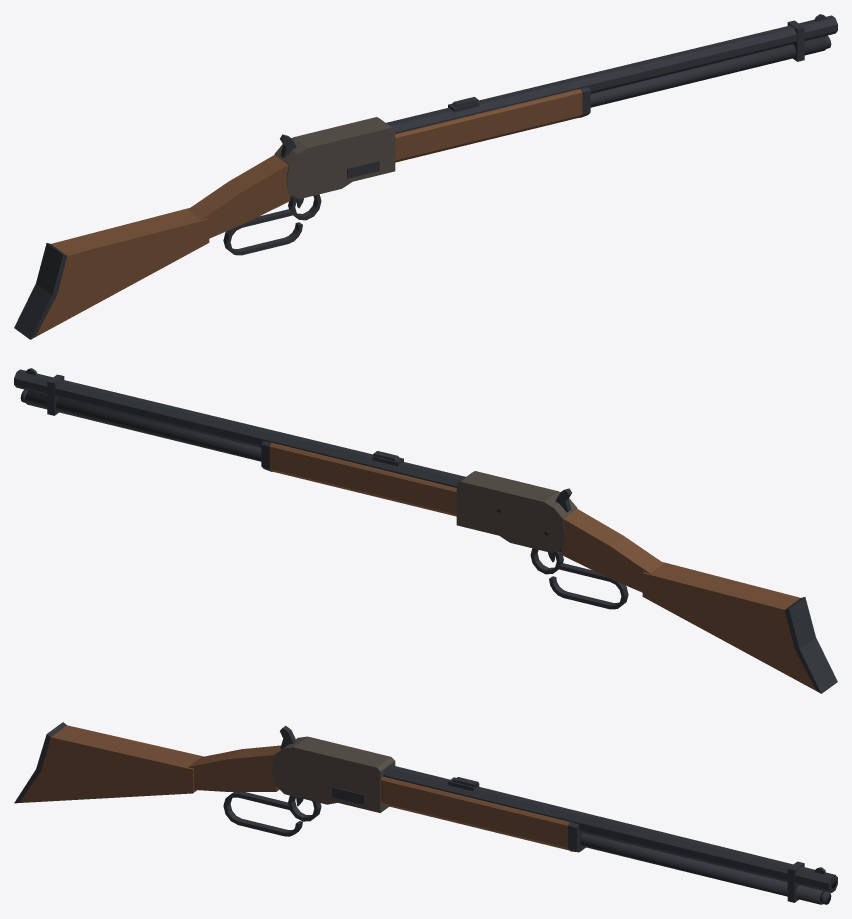
File: winchester_1886_reference.fbx
The picture shows the model from 3 angles, top to bottom: view 1: azimuth 30°, elevation 25°; view 2: azimuth 150°, elevation 25°; view 3: azimuth 330°, elevation 25°; orthographic projection.
Visible parts, largest first — view 1: stock_butt, barrel, receiver, forend, stock_wrist, magazine_tube, butt_plate_lower, butt_plate_upper; view 2: stock_butt, barrel, receiver, forend, stock_wrist, magazine_tube, butt_plate_lower, butt_plate_upper; view 3: stock_butt, barrel, receiver, forend, magazine_tube, stock_wrist, magazine_band, lever_rear_loop_top, forend_cap, lever_rear_loop_bottom.
Part boxes in pixels (<box>): stock_butt: <box>35,208,209,336</box>; barrel: <box>386,15,837,133</box>; receiver: <box>274,117,395,198</box>; forend: <box>395,89,582,162</box>; stock_wrist: <box>188,155,290,238</box>; magazine_tube: <box>590,36,826,107</box>; butt_plate_lower: <box>14,283,56,339</box>; butt_plate_upper: <box>36,243,66,295</box>; stock_butt: <box>642,562,816,690</box>; barrel: <box>14,369,465,487</box>; receiver: <box>456,471,577,552</box>; forend: <box>269,443,456,516</box>; stock_wrist: <box>561,509,663,592</box>; magazine_tube: <box>25,390,261,461</box>; butt_plate_lower: <box>795,637,837,693</box>; butt_plate_upper: <box>785,597,815,649</box>; stock_butt: <box>19,725,203,802</box>; barrel: <box>383,765,837,892</box>; receiver: <box>272,736,395,812</box>; forend: <box>381,776,569,850</box>; magazine_tube: <box>580,833,823,904</box>; stock_wrist: <box>188,745,281,791</box>; magazine_band: <box>787,861,804,902</box>; lever_rear_loop_top: <box>238,792,289,809</box>; forend_cap: <box>568,821,585,852</box>; lever_rear_loop_bottom: <box>238,819,287,836</box>.
Bounding box in the file's own units: 1.14 × 0.181 × 0.04.
